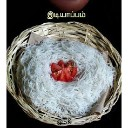idiyappam: (21, 38, 112, 114)
